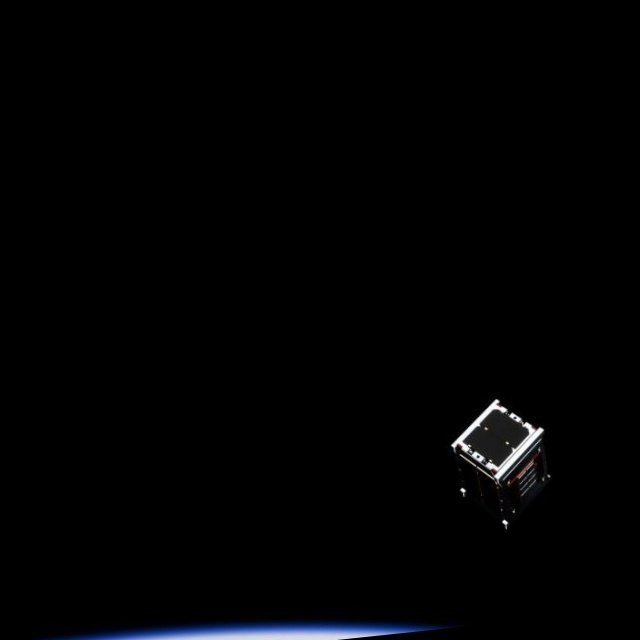medium_debris: (439, 394, 566, 546)
